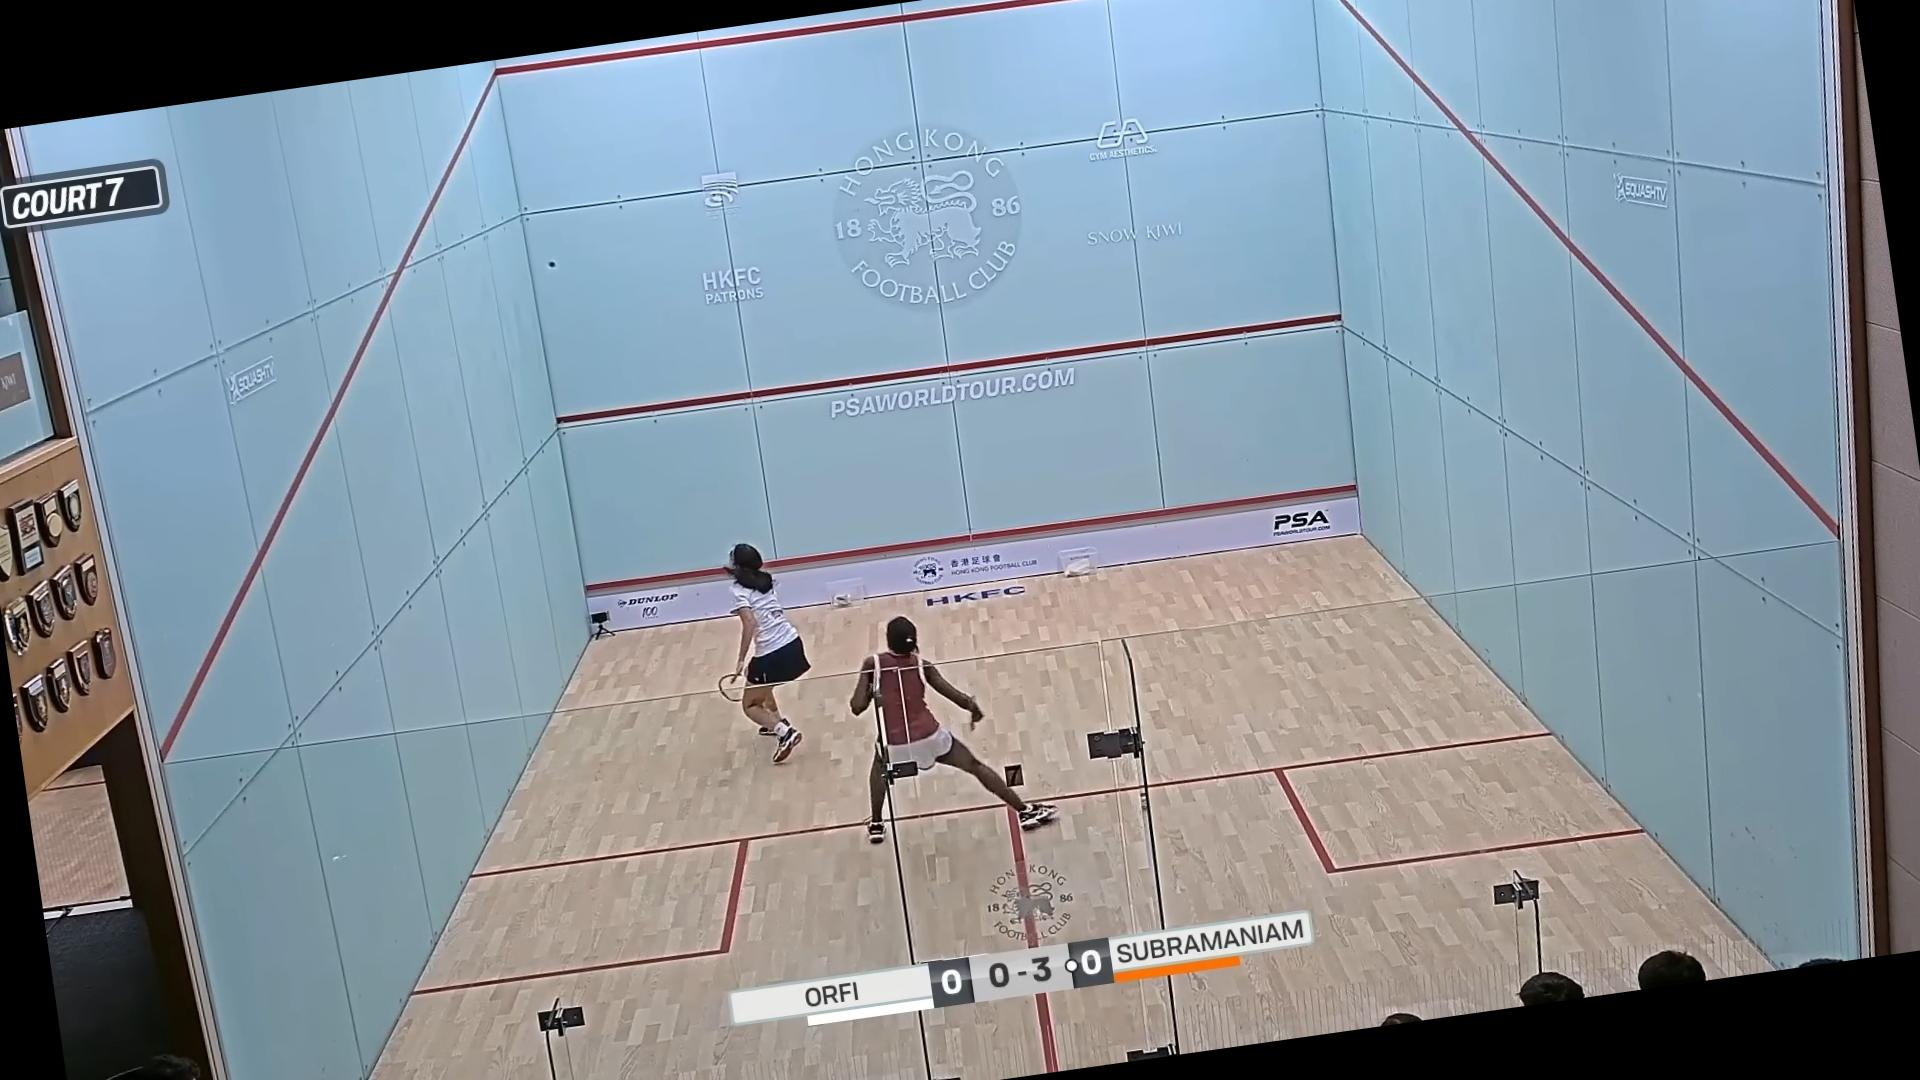Squash-Ball: (539, 251, 564, 280)
